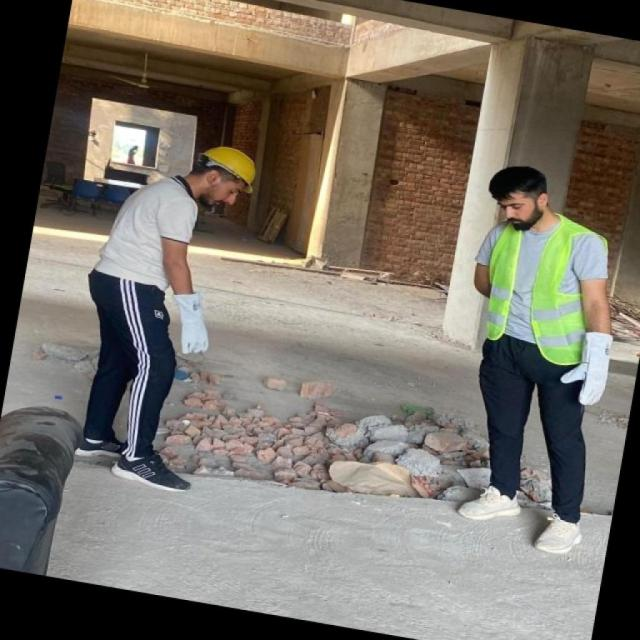Gloves-Detection: (564, 329, 612, 408), (174, 285, 220, 364)
